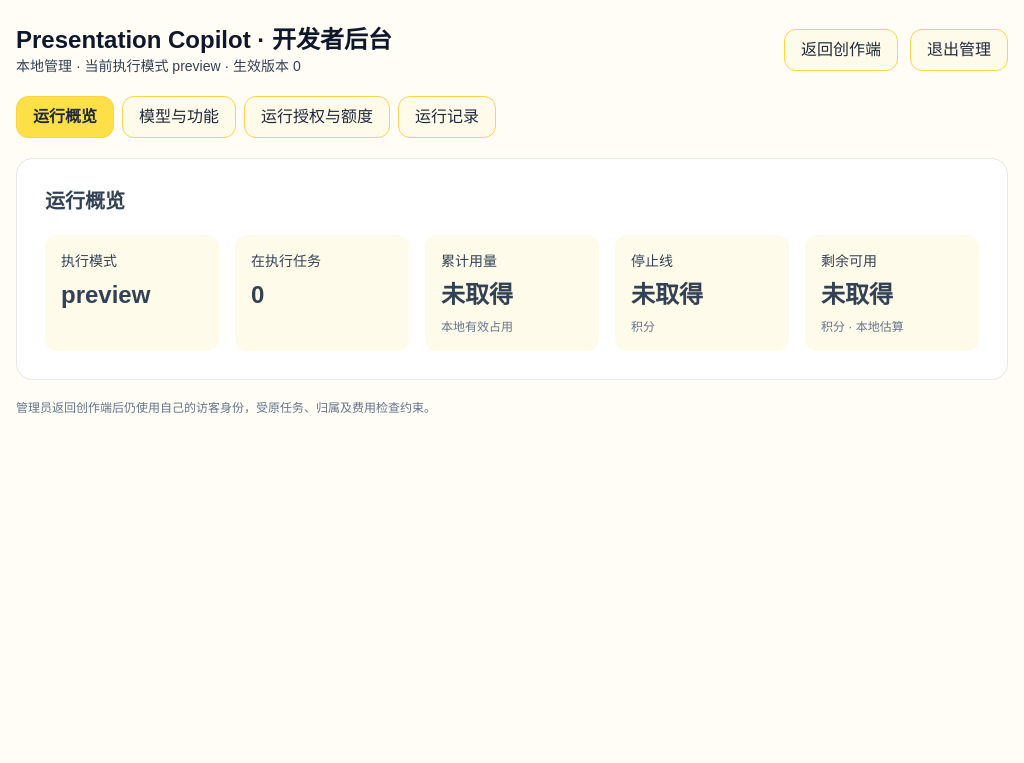
Test case: keeps historical verification details only in the authenticated admin view
This screenshot has width=1024, height=763.
expect the element named "运行概览指标" is shown: met, box x1=45 y1=235 x2=979 y2=351
What coordinates should you click on to do the following:
click the button "模型与功能"
I would click on:
 (179, 117)
Its box is x1=122 y1=96 x2=236 y2=138.
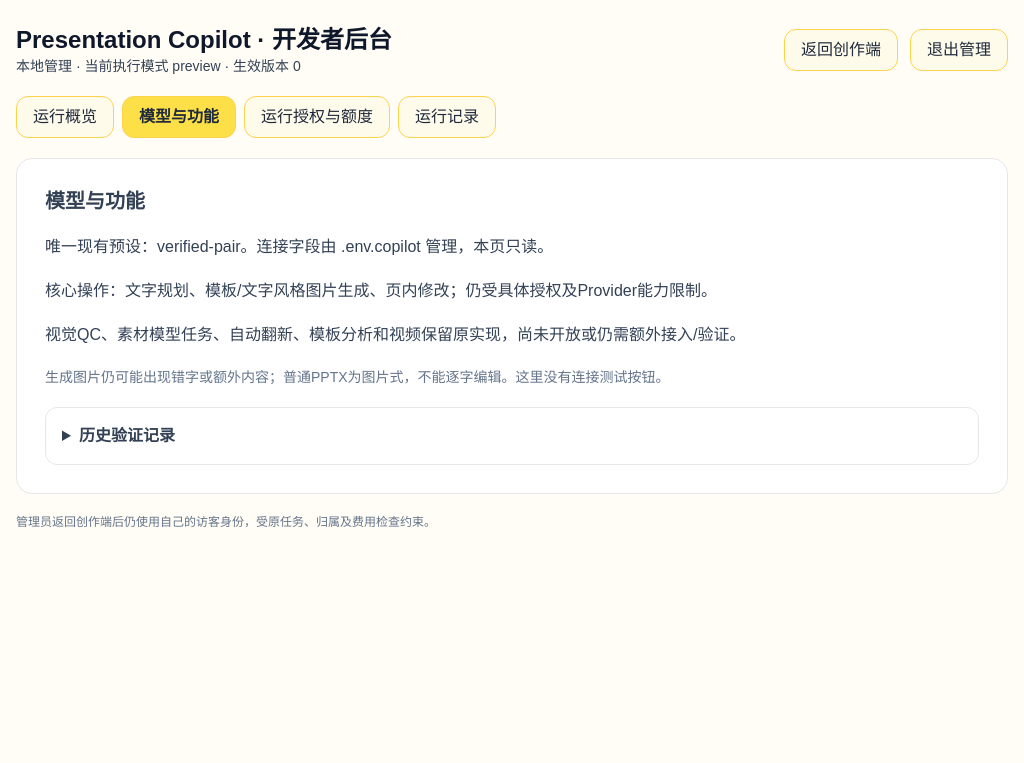
What coordinates should you click on to do the following:
click the heading "历史验证记录"
I would click on:
 (127, 436)
Its box is x1=79 y1=427 x2=175 y2=444.
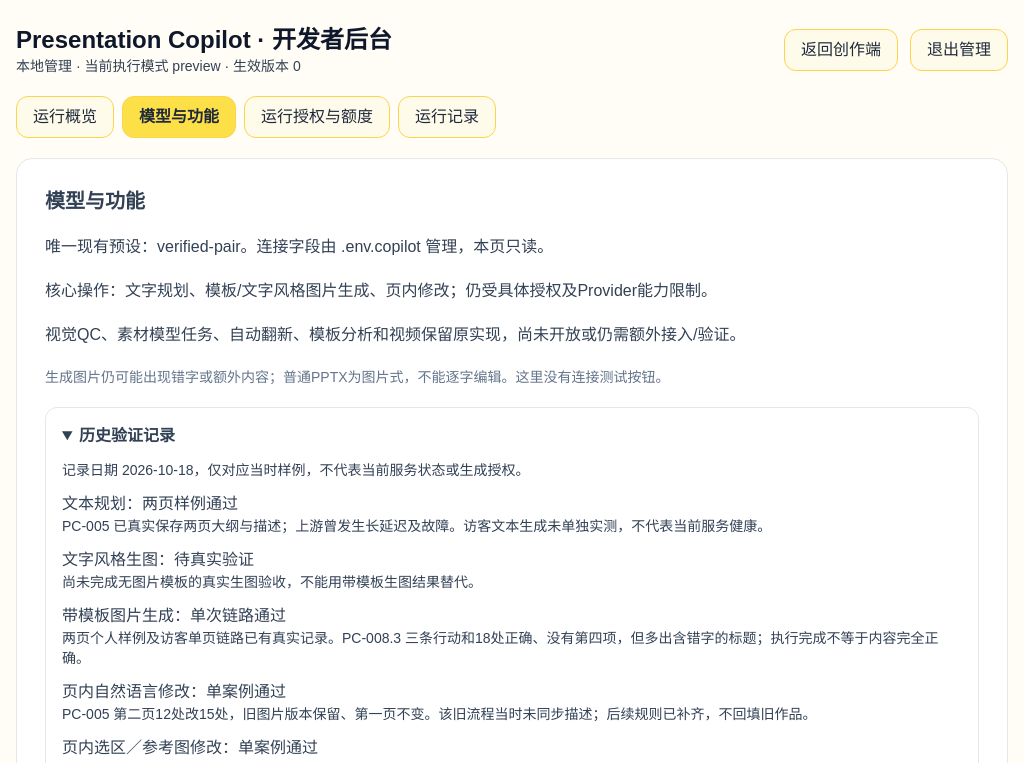
expect the text "PC-008.3 三条行动" is shown: met, box x1=62 y1=630 x2=939 y2=666
